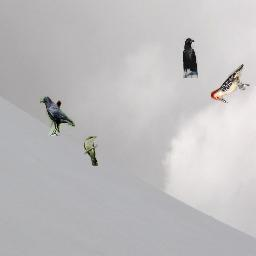Crow: (40, 96, 75, 136), (183, 38, 198, 78)
Cuckoo: (84, 136, 98, 166)
Woodpecker: (210, 64, 250, 103)
